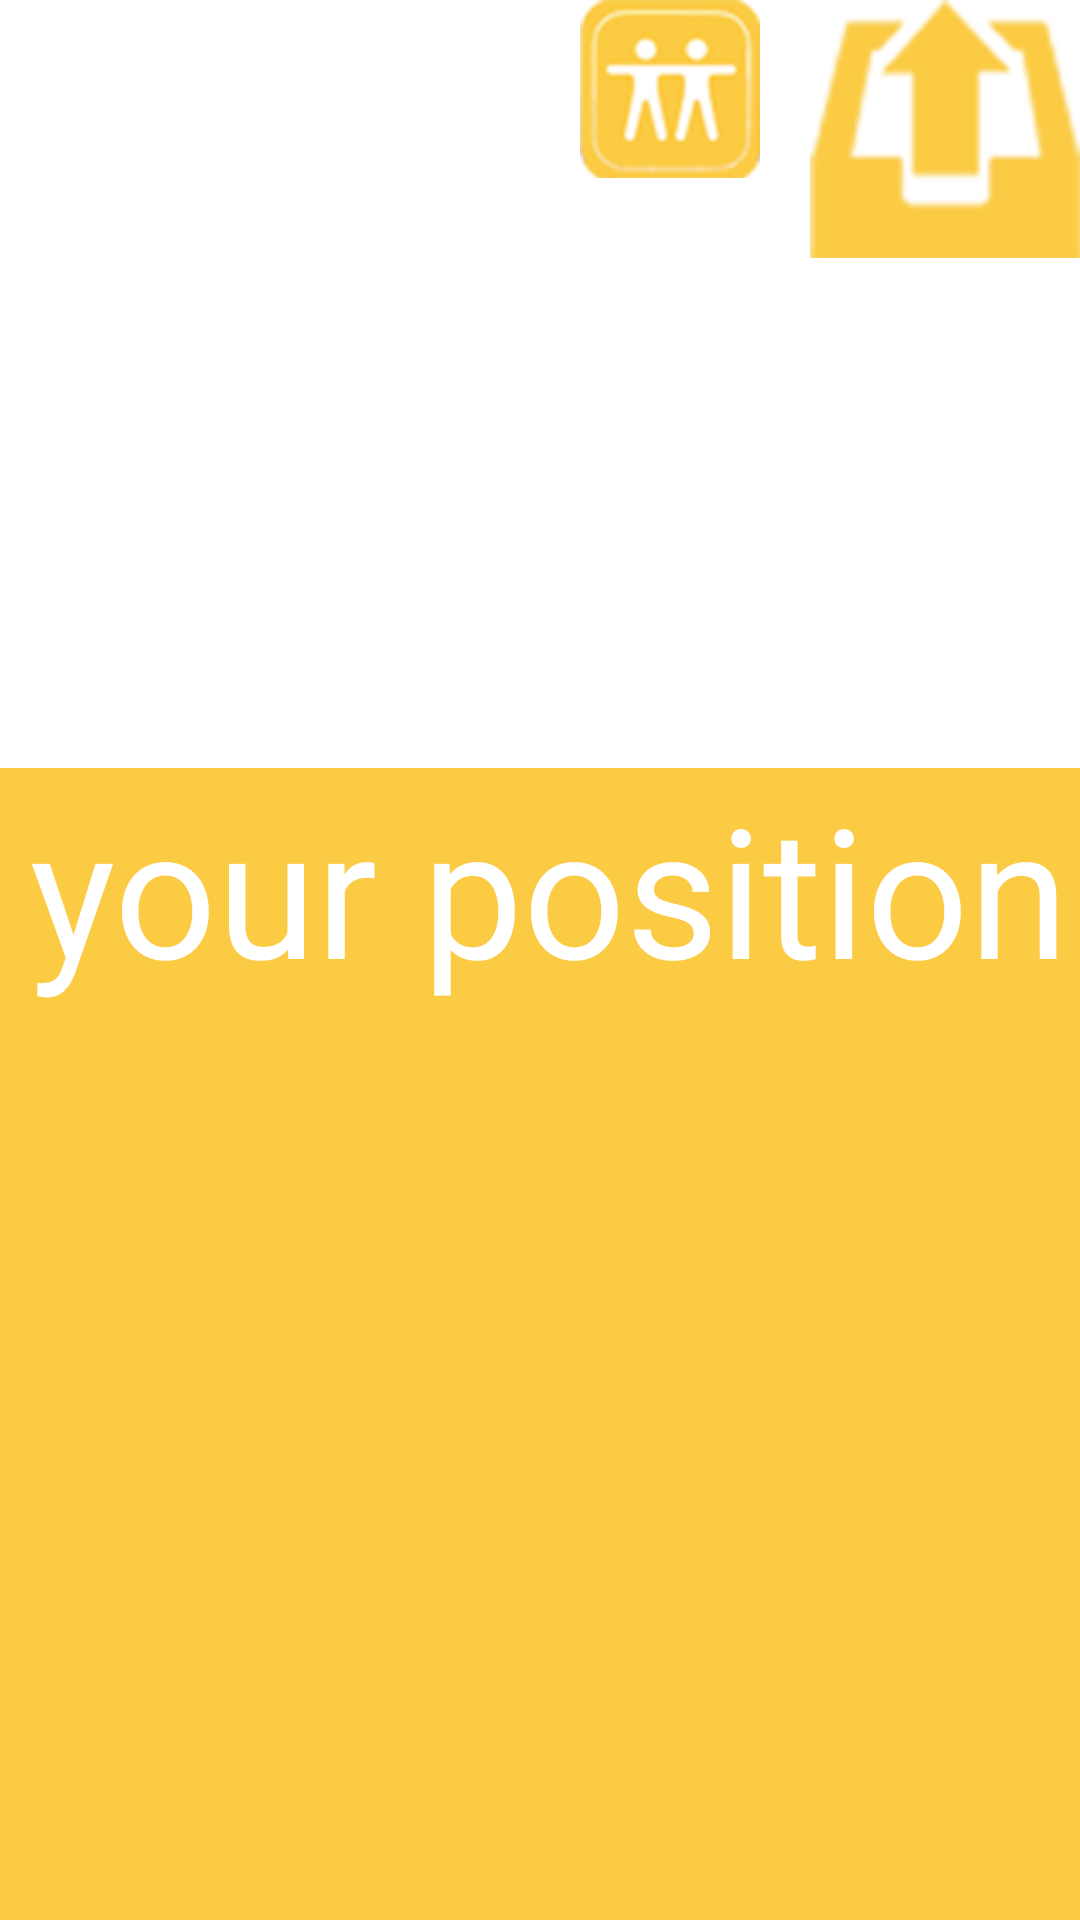

Screen size 1080 x 1920. Icon name, then its box in pixels as region(x1, y1, x2, y2):
upload Button: region(810, 0, 1080, 258)
